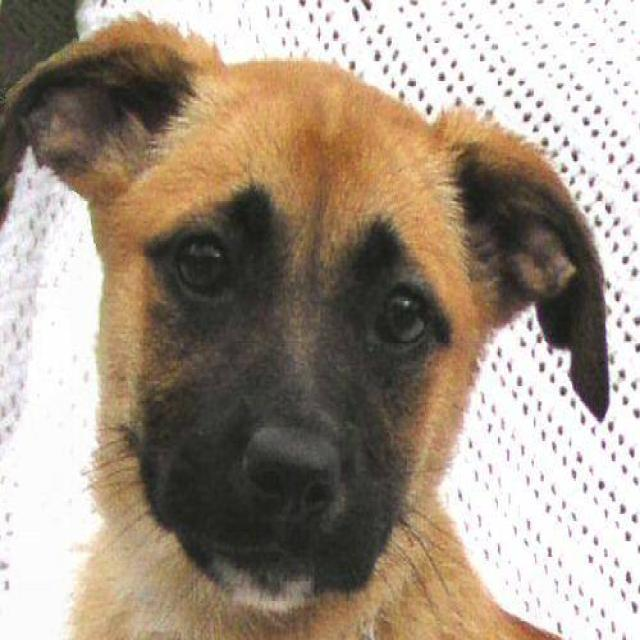dog: (0, 7, 620, 638)
